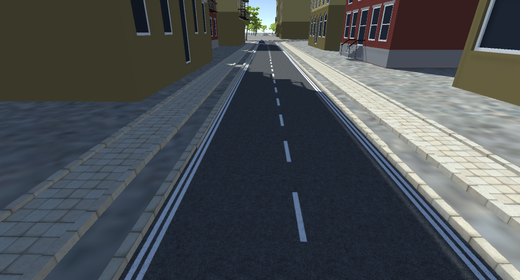centerstrip: (269, 66, 312, 280)
sidestripe: (322, 98, 498, 279), (125, 74, 241, 280)
